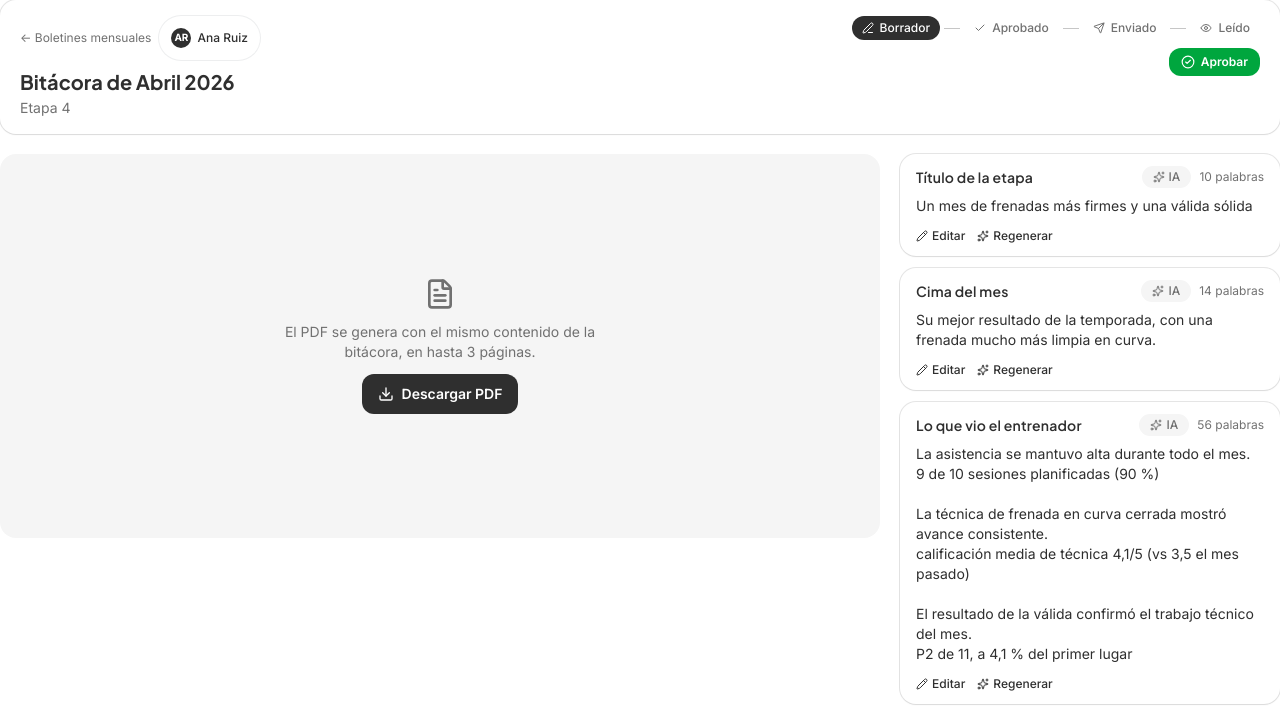
Test: AthleteNewsletterStudioPage › 409 con current_version abre el diálogo de conflicto con la copia exacta
Check: the element with test id "block-card-header" is shown, box [900,154,1279,256]
Click the button with test id "block-edit-header" at (941,236), box [916,228,965,244]
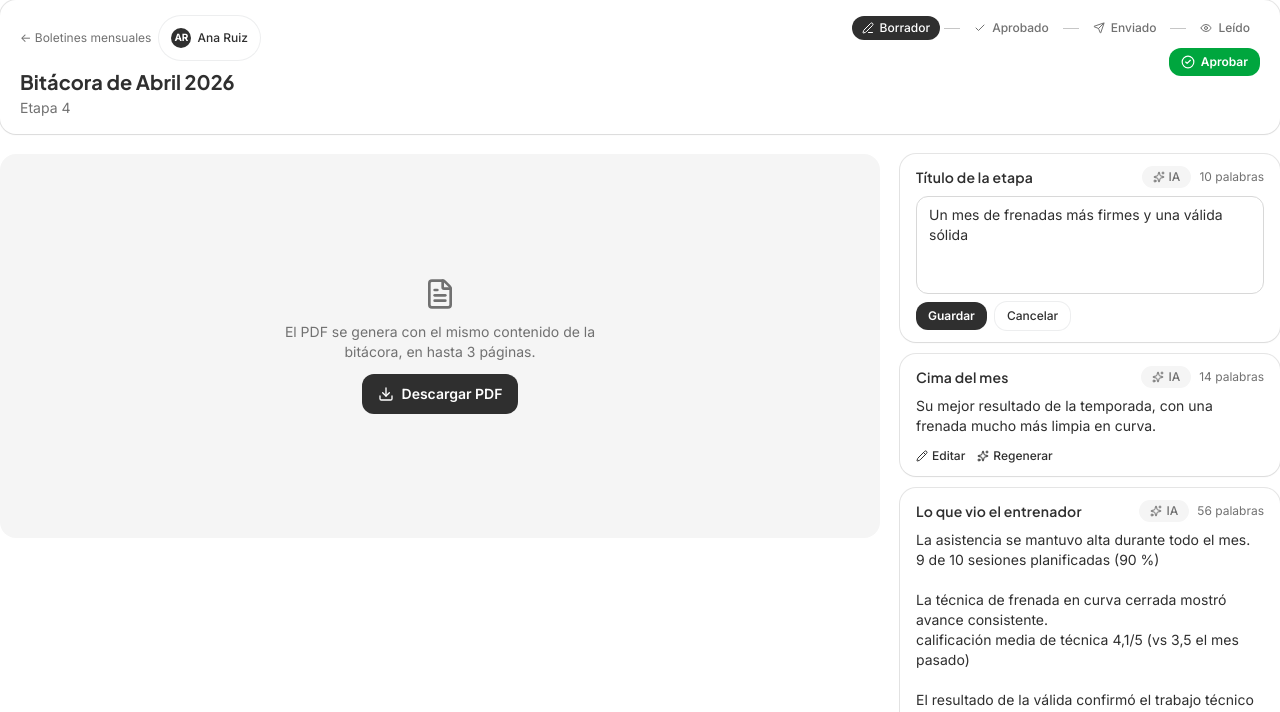
Replace the text in the text box named "Editar Título de la etapa" with "Texto que no se debe perder" at (1090,245), box [916,196,1264,294]
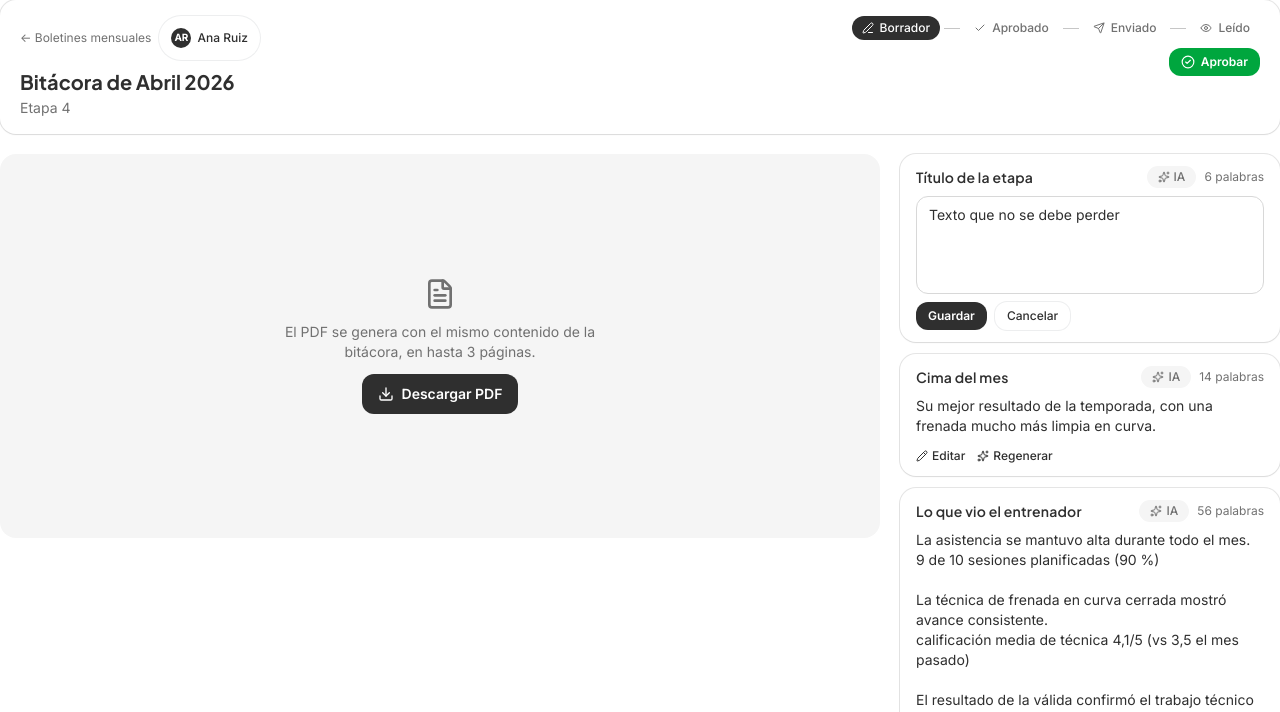
Click the button with test id "block-save-header" at (951,316), box [916,302,987,330]
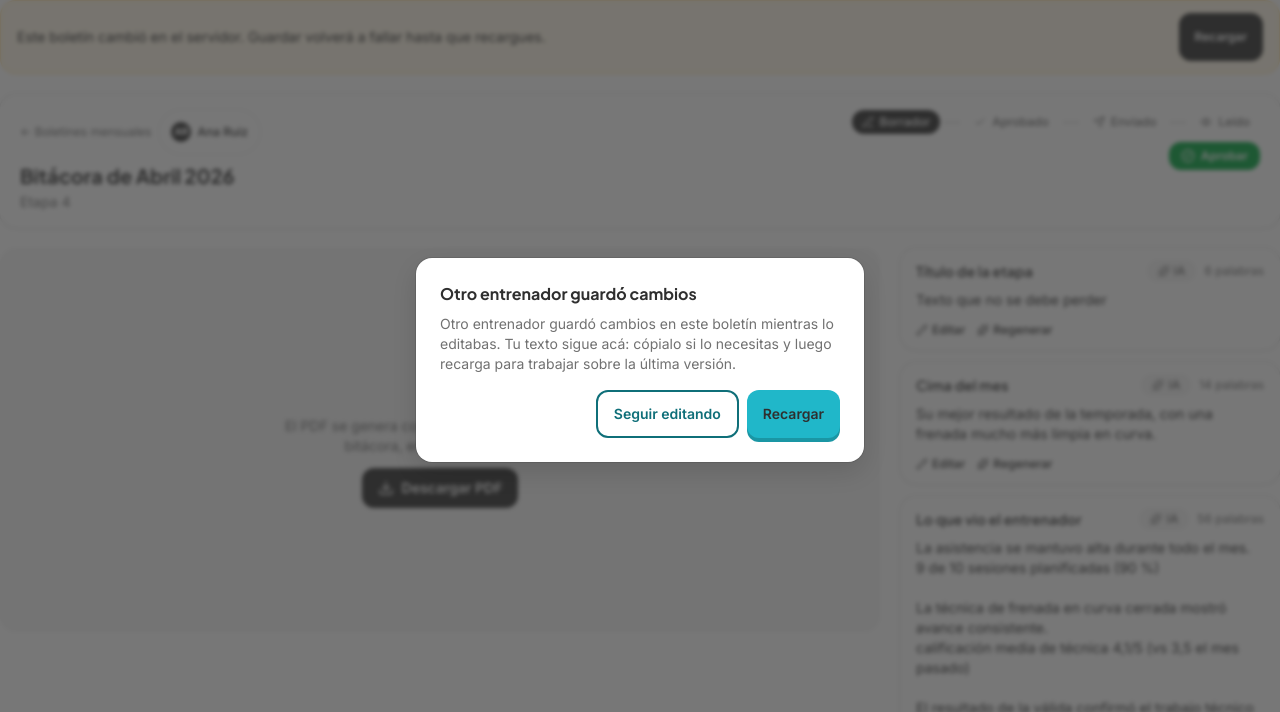
Check: the heading "Otro entrenador guardó cambios" is shown, box [440,283,697,304]
Check: the text "Otro entrenador guardó cambios en este boletín mientras lo editabas. Tu texto sigue acá: cópialo si lo necesitas y luego" is shown, box [440,315,834,372]
Check: the button with test id "newsletter-conflict-reload" is shown, box [747,390,840,438]
